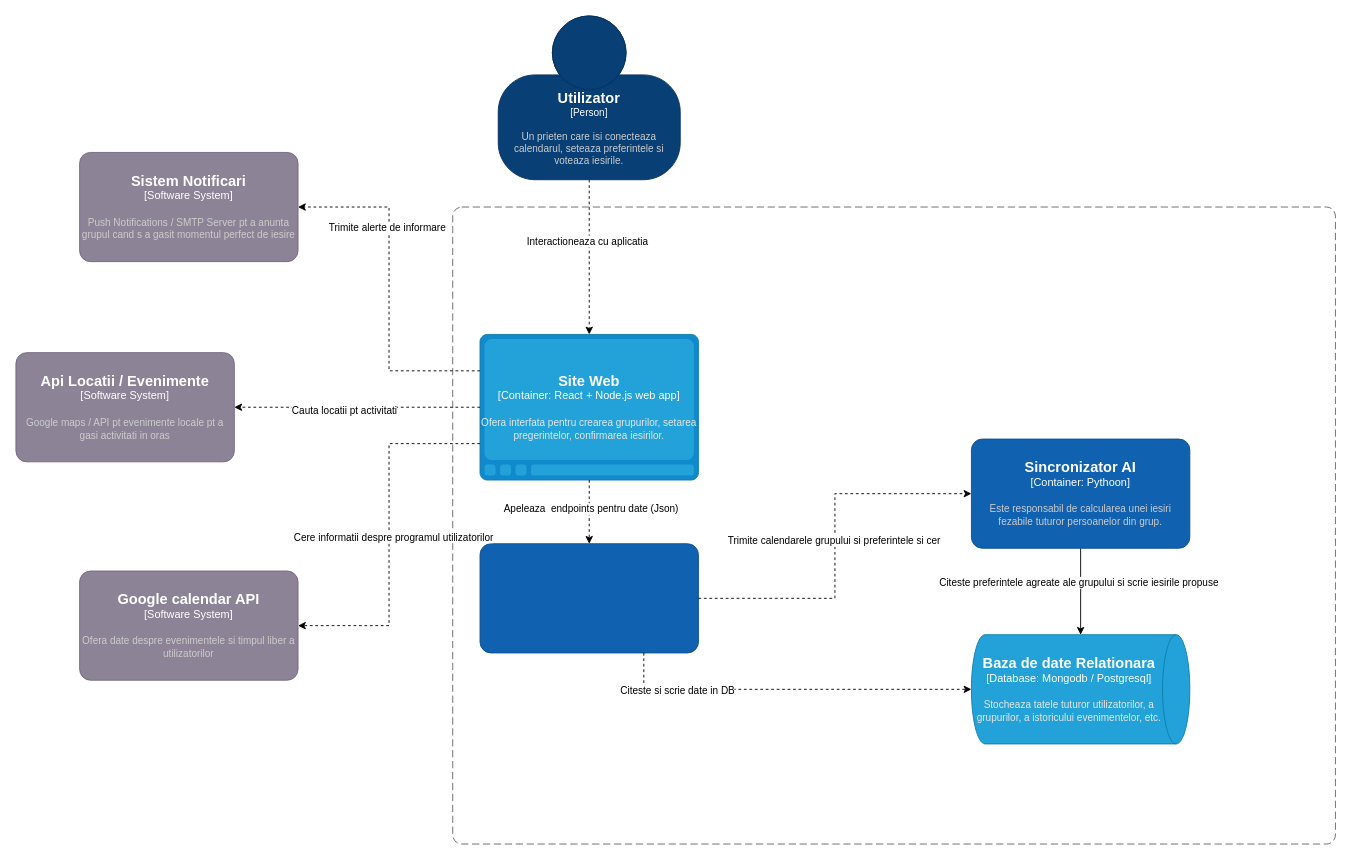
The diagram is 1351 pixels wide and 860 high, and some of its shapes have lost their labels. Each missing label, with the box of its shape:
Backend Api [Node.js] Este cel responsabil de generarea logicii de business.: (479, 543, 698, 653)
System name [Iesiri-Inteligente-App]: (452, 206, 1335, 844)
